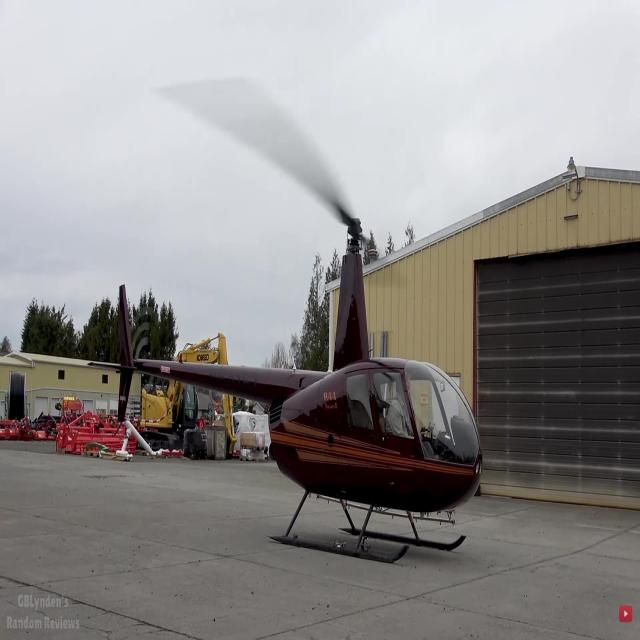CIV_HELO: (86, 215, 483, 569)
